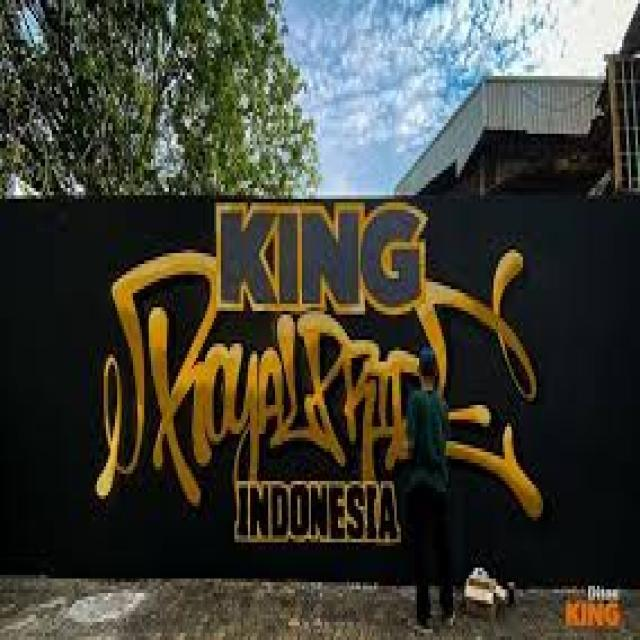-: (96, 200, 544, 546)
